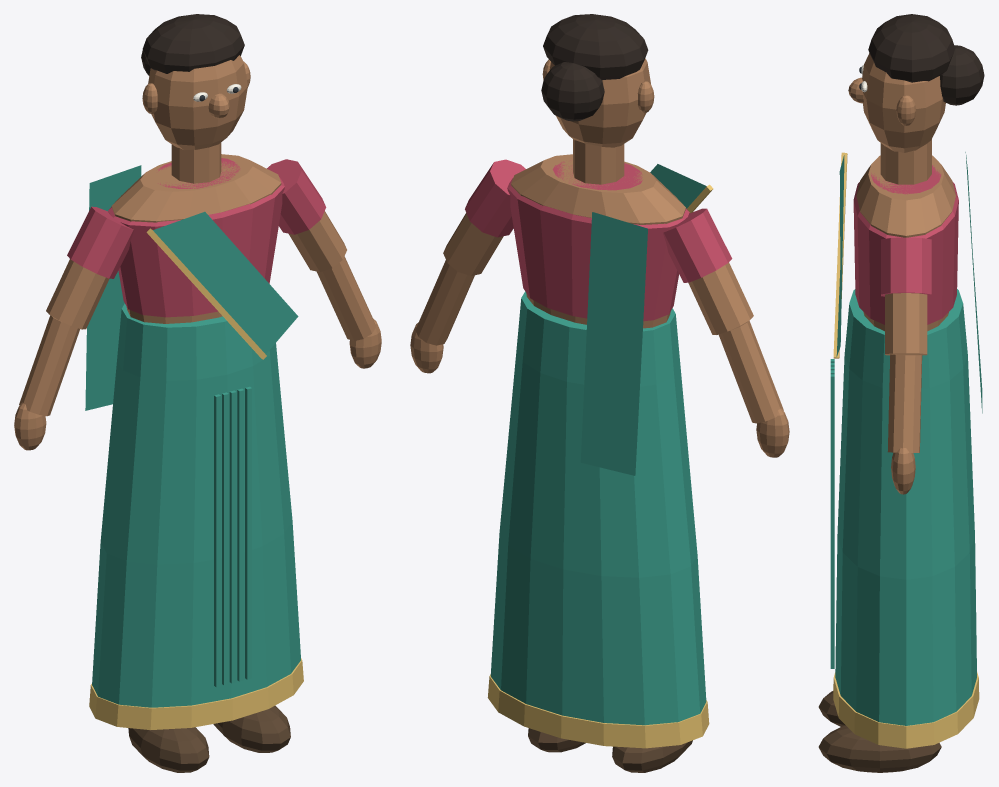
3 views of the same model, side by side, from view 1: azimuth 30°, elevation 25°; view 2: azimuth 150°, elevation 25°; view 3: azimuth 270°, elevation 25° (orthographic). The views are drawn at different scales.
Parts seen in each view (by area): view 1: ordinary_sari_lower, blouse, pallu_front_route_study, body_torso, head_original, sari_lower_border, pallu_back_drop_study, hair_cap, forearm_-1, blouse_sleeve_-1, foot_-1, upper_arm_-1 (+13 smaller); view 2: ordinary_sari_lower, pallu_back_drop_study, blouse, body_torso, sari_lower_border, hair_cap, head_original, forearm_-1, blouse_sleeve_-1, hair_bun, upper_arm_-1, blouse_sleeve_1 (+8 smaller); view 3: ordinary_sari_lower, blouse, body_torso, head_original, hair_cap, sari_lower_border, foot_1, forearm_1, blouse_sleeve_1, upper_arm_1, hair_bun, neck (+7 smaller).
Part boxes in pixels (x1,y1,x2,y2): ordinary_sari_lower: (92,303,300,707); blouse: (108,158,284,317); pallu_front_route_study: (153,211,298,354); body_torso: (111,154,281,323); head_original: (148,55,247,150); sari_lower_border: (89,658,303,729); pallu_back_drop_study: (85,165,141,410); hair_cap: (142,14,244,73); forearm_-1: (19,315,79,416); blouse_sleeve_-1: (67,206,134,278); foot_-1: (128,727,209,772); upper_arm_-1: (46,259,109,329); ordinary_sari_lower: (490,291,706,725); pallu_back_drop_study: (580,212,647,475); blouse: (507,160,689,321); body_torso: (511,154,685,328); sari_lower_border: (487,674,709,748); hair_cap: (543,14,648,80); head_original: (549,58,650,147); forearm_-1: (719,320,783,423); blouse_sleeve_-1: (662,208,732,282); hair_bun: (541,62,604,121); upper_arm_-1: (688,262,753,334); blouse_sleeve_1: (465,159,525,237); ordinary_sari_lower: (835,289,976,725); blouse: (853,165,958,324); body_torso: (856,155,955,331); head_original: (862,53,945,152); hair_cap: (868,14,954,82); sari_lower_border: (833,672,979,748); foot_1: (818,725,941,772); forearm_1: (887,354,922,452); blouse_sleeve_1: (881,237,931,296); upper_arm_1: (885,293,927,355); hair_bun: (940,45,984,105); neck: (880,139,931,184).
Size of the model in its own units: 0.896 by 1.69 by 0.35.
